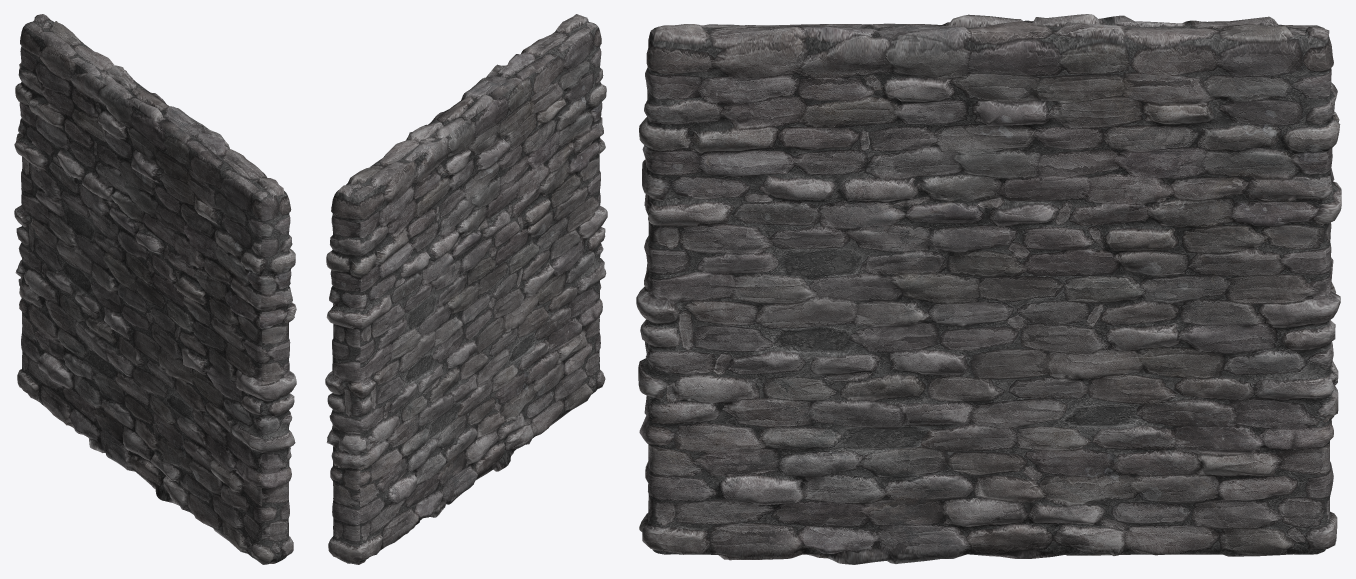
The model's file is SM_MWall400A_DS.FBX.
3 renders of one model, left to right at view 1: azimuth 30°, elevation 25°; view 2: azimuth 150°, elevation 25°; view 3: azimuth 270°, elevation 25°, orthographic. The views are drawn at different scales.
Visible parts, largest first — view 1: SM_MWall400A_DS_LOD0; view 2: SM_MWall400A_DS_LOD0; view 3: SM_MWall400A_DS_LOD0.
Part boxes in pixels (x1,y1,x2,y2): SM_MWall400A_DS_LOD0: (14,14,296,564); SM_MWall400A_DS_LOD0: (325,14,607,564); SM_MWall400A_DS_LOD0: (636,14,1341,564).
Size of what is drawn, in the model's own units: 46 by 357 by 425.
